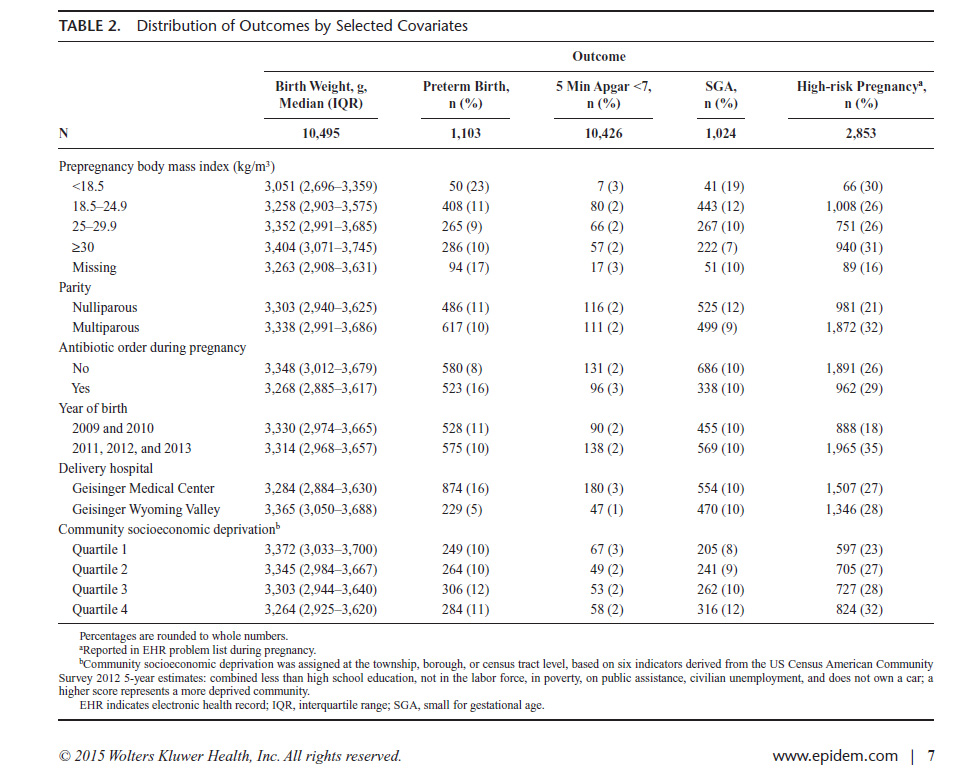fracking table: (56, 8, 932, 625)
